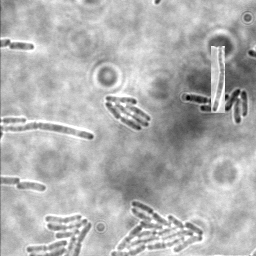Dividing: (1, 123, 95, 142), (211, 46, 225, 113), (8, 41, 35, 52)
Microcolony: (109, 200, 205, 255), (25, 212, 94, 255), (184, 89, 248, 126), (103, 96, 150, 132), (16, 182, 48, 193)
